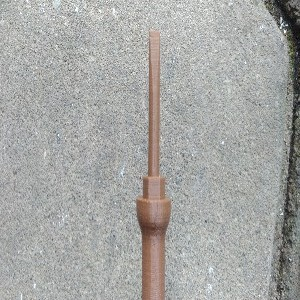obeng: (135, 29, 172, 300)
